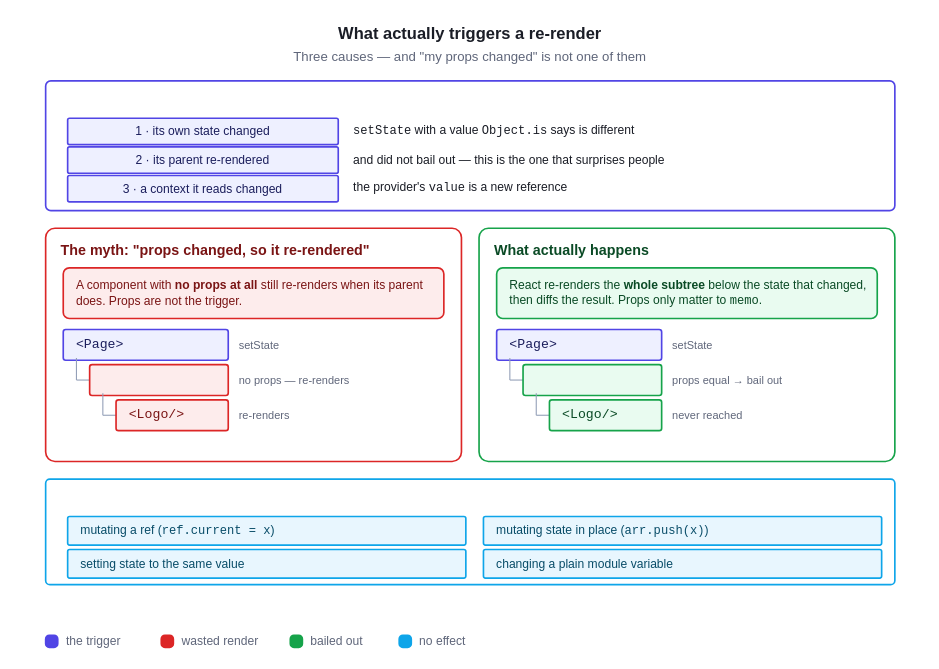
Some shapes in this 939 by 669 pixel diagram are drawn without their labels. The box of each missing label's shape, as (x1, y1, x2, y2) in pixels:
<Sidebar/>: (88, 363, 229, 396)
memo(<Sidebar/>): (522, 363, 662, 396)
The complete list: (44, 80, 895, 211)
What does not cause a re-render: (44, 478, 895, 585)
